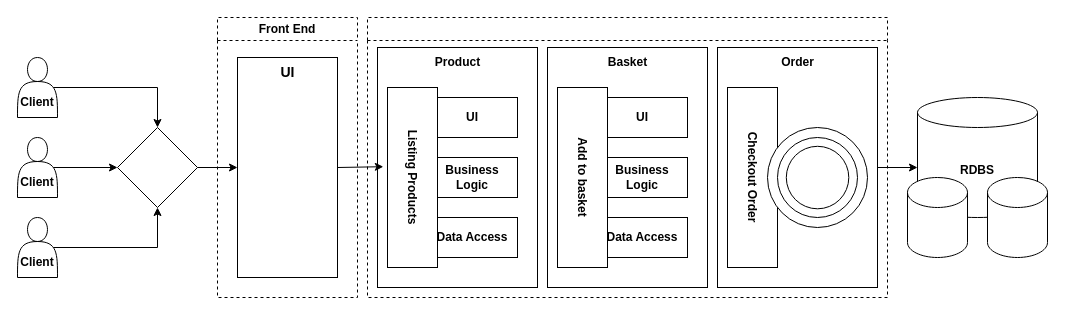
This 1065x315 diagram has some shape labels left out. Here are the shapes that lost their labels. From the top down, the box of each, then its label:
(116, 126, 198, 208): Load Balancer
(236, 56, 338, 278): SPA
(366, 16, 888, 298): Back End
(785, 145, 849, 209): Clean Architecture
(906, 176, 968, 258): Product Schema
(986, 176, 1048, 258): Order Schema
